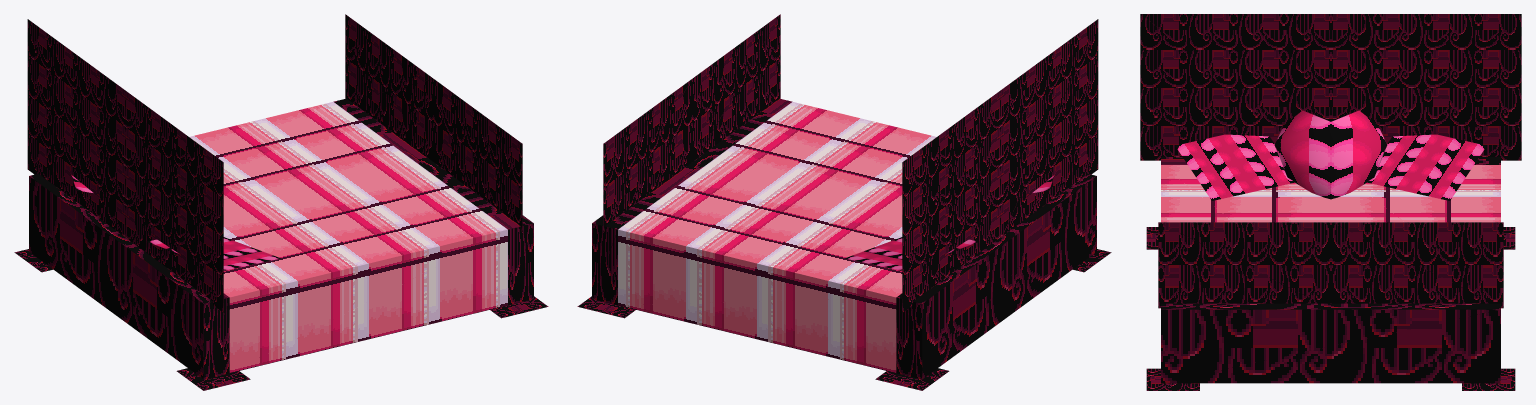
The model's file is 3825kg3_ser06.gltf.
The picture shows the model from 3 angles, left to right: view 1: azimuth 30°, elevation 25°; view 2: azimuth 150°, elevation 25°; view 3: azimuth 270°, elevation 25°; orthographic projection. The views are drawn at different scales.
Visible parts, largest first — view 1: 3825kg3_ser06; view 2: 3825kg3_ser06; view 3: 3825kg3_ser06.
Part boxes in pixels (<box>): 3825kg3_ser06: <box>14,14,548,390</box>; 3825kg3_ser06: <box>577,14,1111,390</box>; 3825kg3_ser06: <box>1140,14,1521,390</box>.
Bounding box in the file's own units: 1.99 × 1.25 × 1.95.
3 materials, 3 textured.
